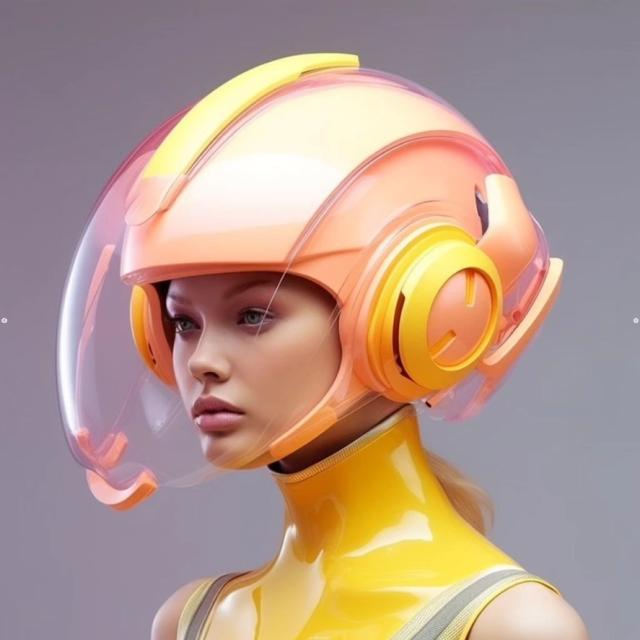illegal_helmet: (42, 43, 570, 520)
